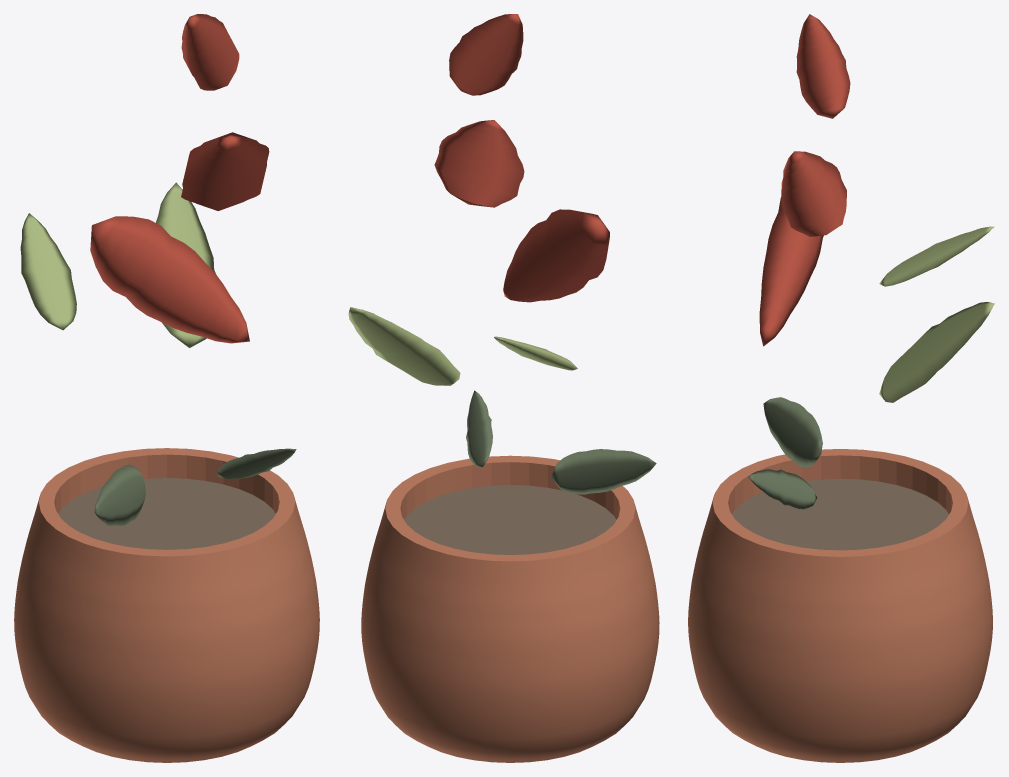
Rendered from NPR_25_1022__MOD__GardenFurniture__PlantersAndPots__PottedPlantTerracotta__Var-02__.glb.
3 renders of one model, left to right at view 1: azimuth 30°, elevation 25°; view 2: azimuth 150°, elevation 25°; view 3: azimuth 270°, elevation 25°, orthographic. The views are drawn at different scales.
Parts seen in each view (by area): view 1: NPR_25_1022__MOD__GardenFurniture__PlantersAndPots__PottedPl; view 2: NPR_25_1022__MOD__GardenFurniture__PlantersAndPots__PottedPl; view 3: NPR_25_1022__MOD__GardenFurniture__PlantersAndPots__PottedPl.
Boxes of the visible parts, box(x1,y1,x2,y2) form: NPR_25_1022__MOD__GardenFurniture__PlantersAndPots__PottedPl: box(14, 14, 319, 762); NPR_25_1022__MOD__GardenFurniture__PlantersAndPots__PottedPl: box(348, 14, 659, 762); NPR_25_1022__MOD__GardenFurniture__PlantersAndPots__PottedPl: box(688, 14, 994, 762).
Bounding box in the file's own units: 0.3556 × 0.9087 × 0.3578.
